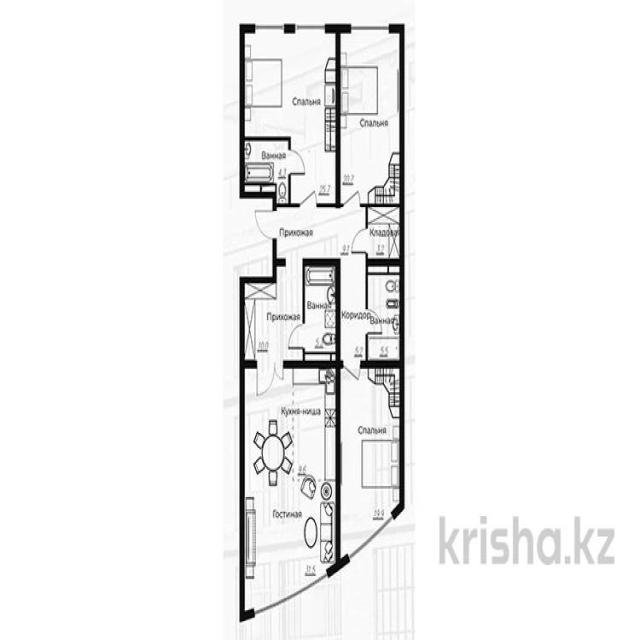bathroom: (367, 263, 404, 360), (305, 264, 340, 364), (240, 142, 293, 194)
hallway: (274, 203, 366, 263), (244, 281, 305, 366), (340, 262, 367, 362)
kitchen: (242, 365, 336, 574)
living_room: (336, 26, 403, 204), (240, 29, 338, 141), (340, 365, 403, 513)
other: (368, 206, 403, 262)
